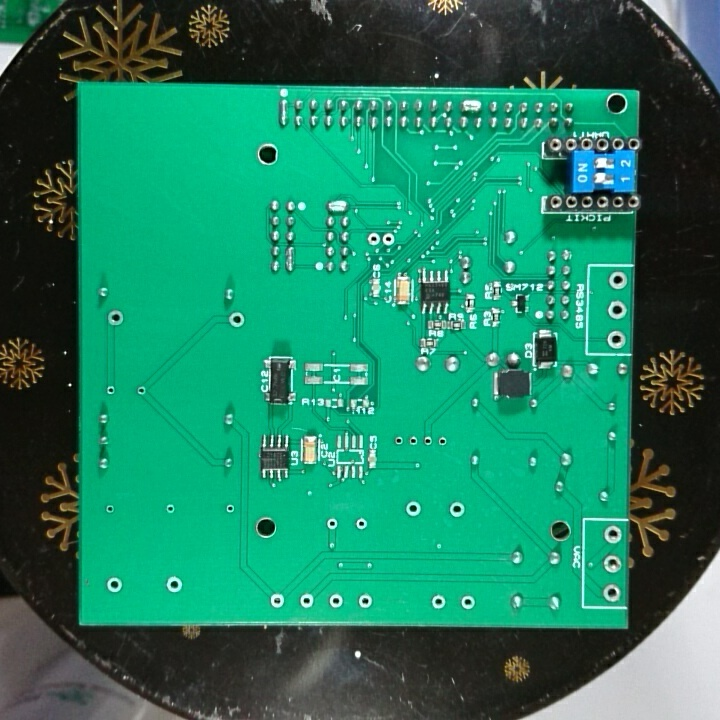F: (599, 552, 625, 575), (605, 298, 628, 322), (599, 581, 623, 604), (606, 269, 629, 292), (604, 328, 628, 350), (601, 523, 623, 547), (104, 573, 125, 595), (225, 309, 247, 330), (105, 307, 125, 330), (163, 574, 184, 595), (403, 498, 422, 520), (447, 499, 466, 520), (428, 592, 447, 612), (268, 590, 287, 610), (458, 593, 477, 612), (296, 591, 315, 610), (356, 592, 374, 612), (323, 515, 341, 534), (327, 591, 345, 610), (365, 229, 381, 249), (352, 515, 369, 533), (381, 229, 395, 250), (133, 382, 149, 400), (163, 500, 178, 519), (222, 500, 237, 518), (102, 500, 117, 517), (406, 432, 420, 450), (420, 432, 434, 449), (434, 432, 448, 449), (104, 382, 117, 398), (392, 432, 404, 449)
P: (457, 96, 483, 115), (282, 245, 297, 274), (325, 198, 350, 215), (277, 98, 289, 130)
